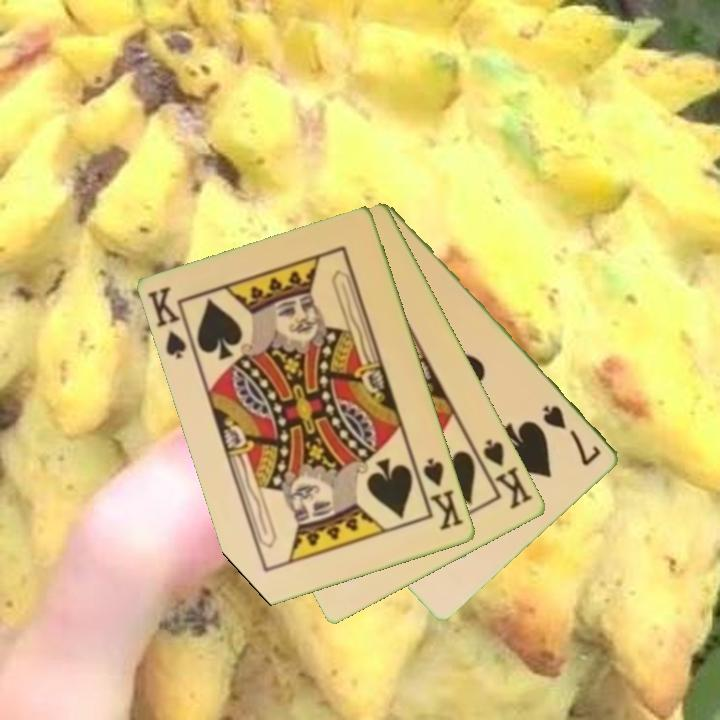7s: (539, 402, 605, 469)
Ks: (144, 283, 199, 362), (480, 436, 536, 513), (420, 455, 467, 534)
